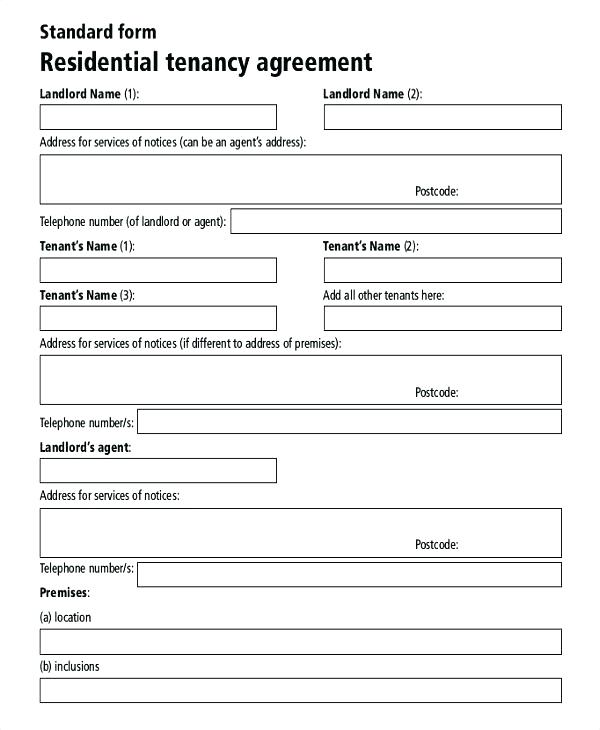textbox: (37, 151, 565, 207), (37, 352, 564, 407), (36, 506, 565, 559), (37, 626, 565, 658), (38, 676, 563, 704), (134, 559, 565, 590), (134, 407, 565, 436), (226, 205, 565, 237), (319, 301, 565, 334), (321, 101, 564, 134), (37, 101, 281, 133), (37, 254, 280, 285), (37, 455, 281, 485), (322, 255, 563, 284), (38, 303, 279, 332)
